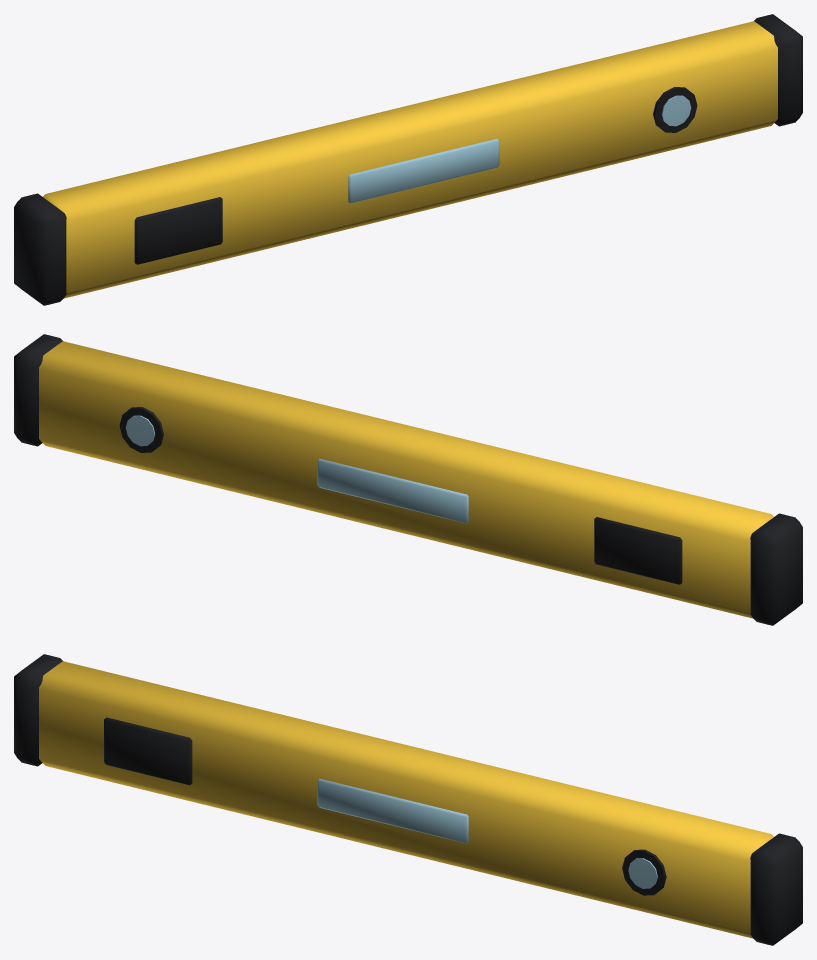
File: SM_Level_Box_01.glb
3 renders of one model, top to bottom at view 1: azimuth 30°, elevation 25°; view 2: azimuth 150°, elevation 25°; view 3: azimuth 330°, elevation 25°, orthographic.
Parts seen in each view (by area): view 1: SM_Level_Box_01; view 2: SM_Level_Box_01; view 3: SM_Level_Box_01.
Boxes of the visible parts, x1,y1,x2,y2 form: SM_Level_Box_01: (14,14,802,305); SM_Level_Box_01: (14,334,802,625); SM_Level_Box_01: (14,654,802,945).
Bounding box in the file's own units: 0.61 × 0.07 × 0.047.
Materials: 1 (1 with a texture image).
